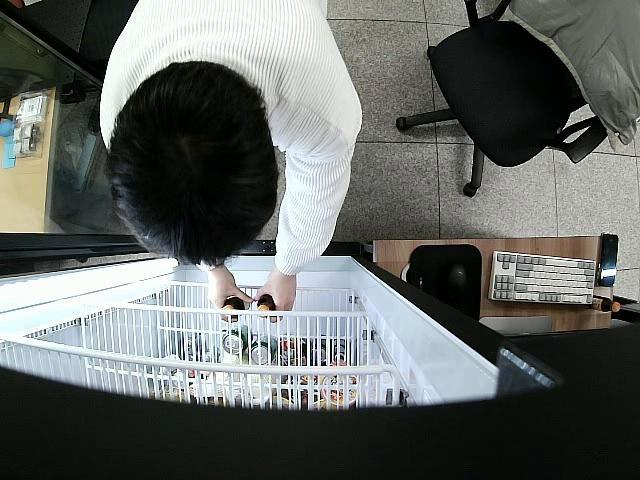17_vita500: (256, 293, 278, 316), (223, 298, 245, 320)
